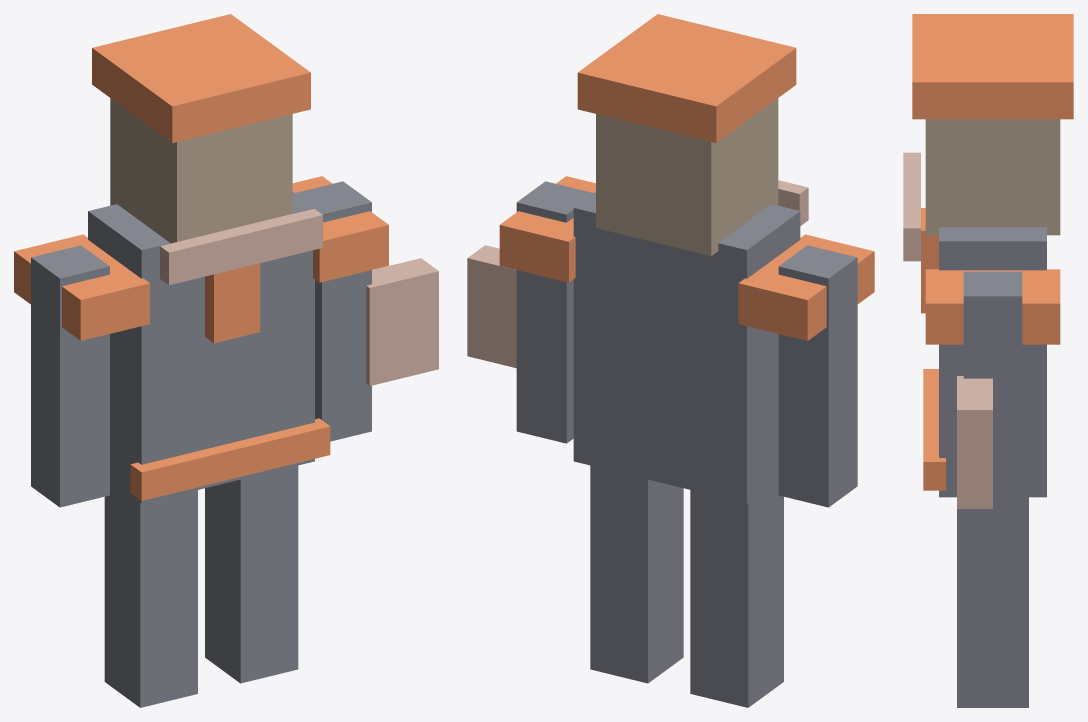
Rendered from 05_vela_riftwalker_archivist_under_climber.glb.
3 views of the same model, side by side, from view 1: azimuth 30°, elevation 25°; view 2: azimuth 150°, elevation 25°; view 3: azimuth 270°, elevation 25° (orthographic).
Visible parts, largest first — view 1: Vela Riftwalker, Archivist under Climber; view 2: Vela Riftwalker, Archivist under Climber; view 3: Vela Riftwalker, Archivist under Climber.
Part boxes in pixels (left/top/right/bottom): Vela Riftwalker, Archivist under Climber: left=14, top=14, right=438, bottom=707; Vela Riftwalker, Archivist under Climber: left=467, top=14, right=874, bottom=707; Vela Riftwalker, Archivist under Climber: left=903, top=14, right=1073, bottom=707.
Size of the model in its own units: 0.9701 by 1.52 by 0.3781.
